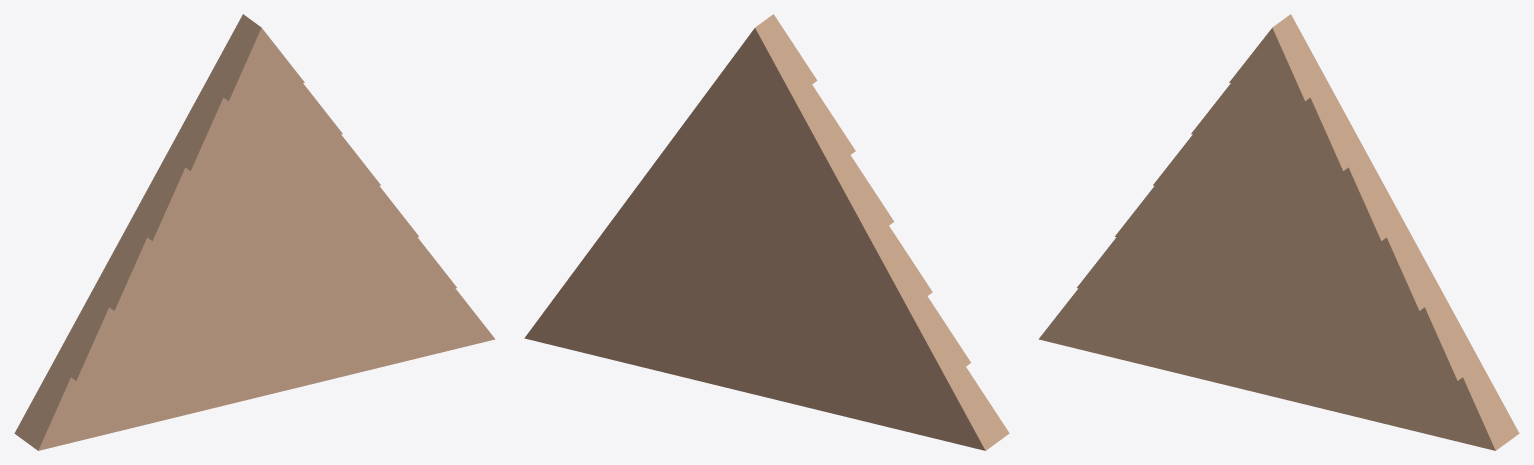
Rendered from cabinSideCenter.glb.
The picture shows the model from 3 angles, left to right: view 1: azimuth 30°, elevation 25°; view 2: azimuth 150°, elevation 25°; view 3: azimuth 330°, elevation 25°; orthographic projection.
Parts seen in each view (by area): view 1: cabinSideCenter(Clone); view 2: cabinSideCenter(Clone); view 3: cabinSideCenter(Clone).
Boxes of the visible parts, x1=… form: cabinSideCenter(Clone): x1=14, y1=14, x2=495, y2=450; cabinSideCenter(Clone): x1=524, y1=14, x2=1009, y2=450; cabinSideCenter(Clone): x1=1038, y1=14, x2=1519, y2=450.
Bounding box in the file's own units: 1 × 0.76 × 0.0902.
